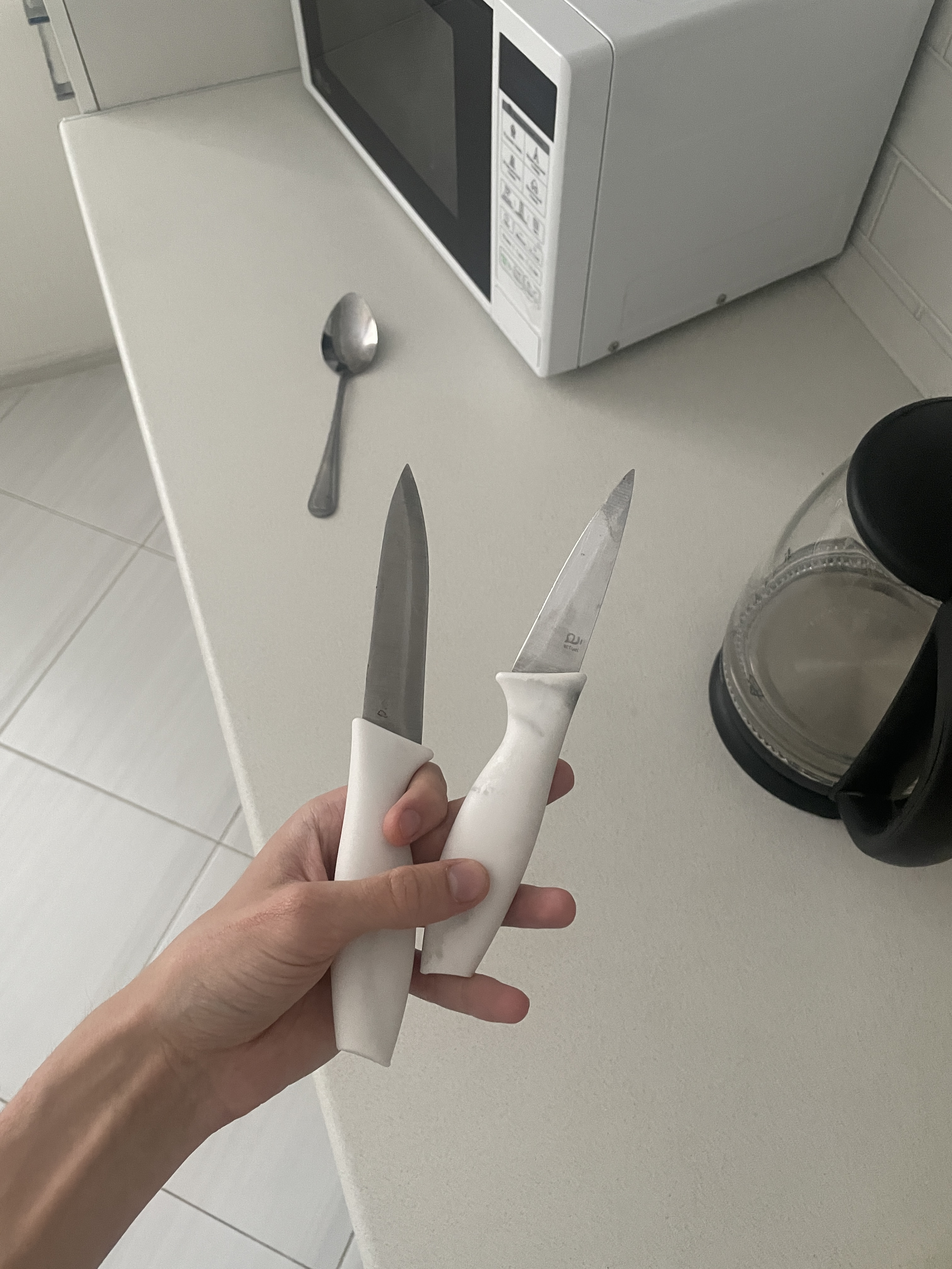knife: (421, 470, 635, 976), (333, 466, 433, 1068)
spoon: (308, 293, 378, 517)
